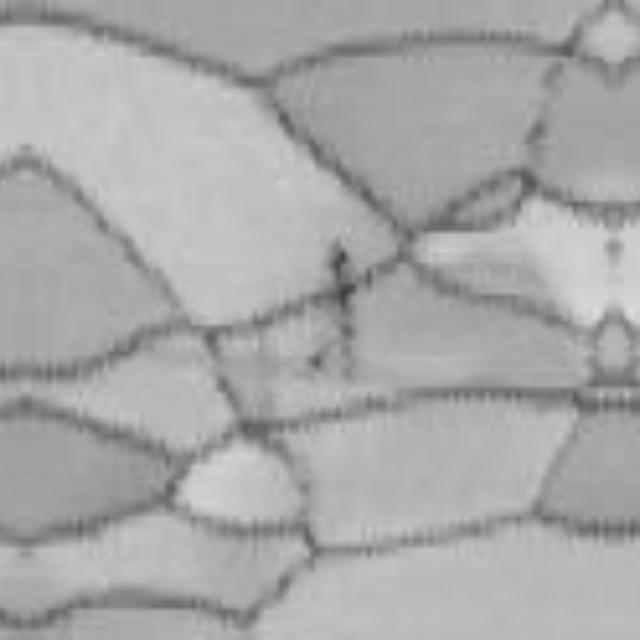good_void: (327, 242, 346, 341), (308, 351, 325, 372)
